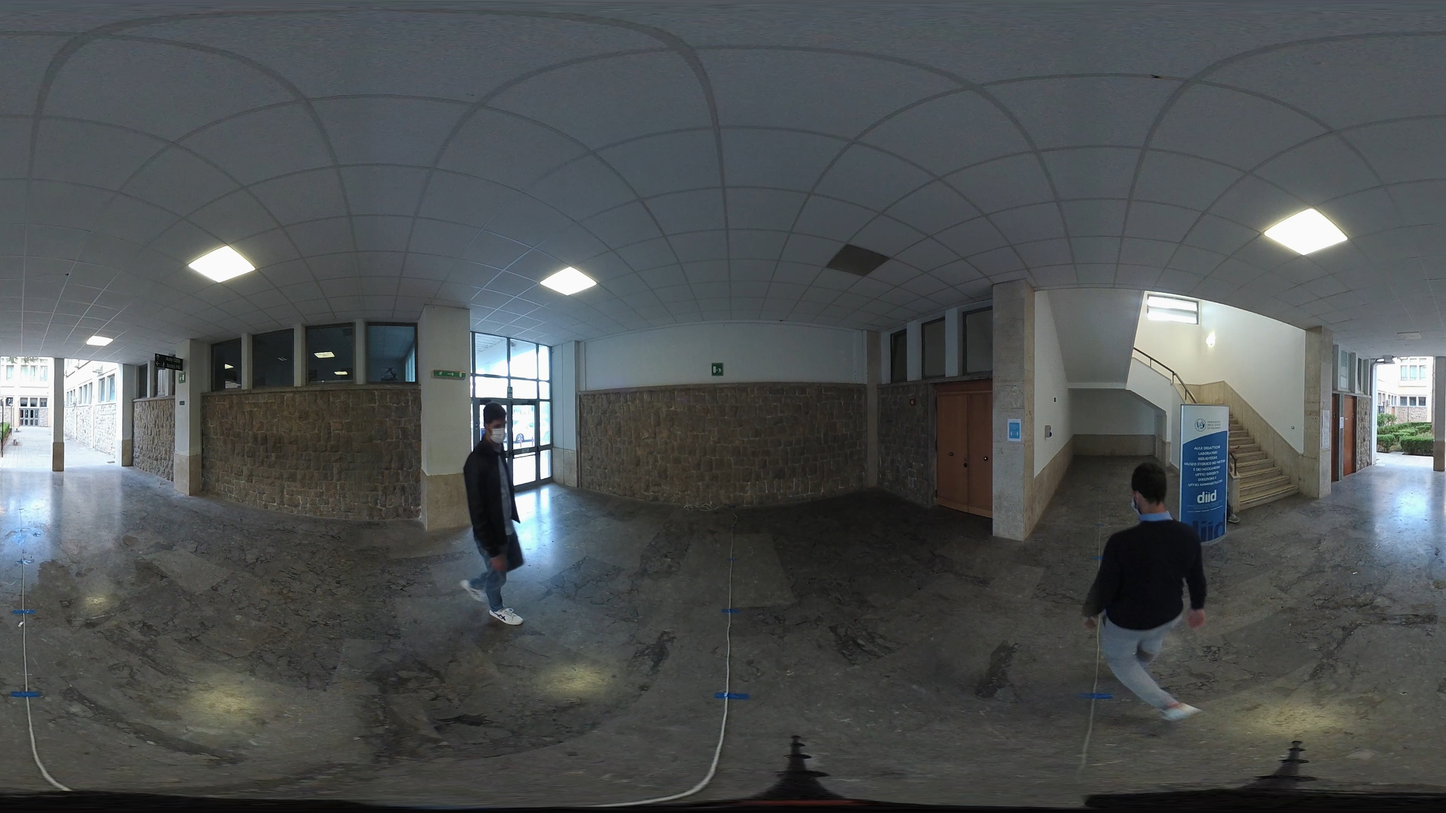Person: (1081, 297, 1210, 723), (460, 402, 526, 627)
